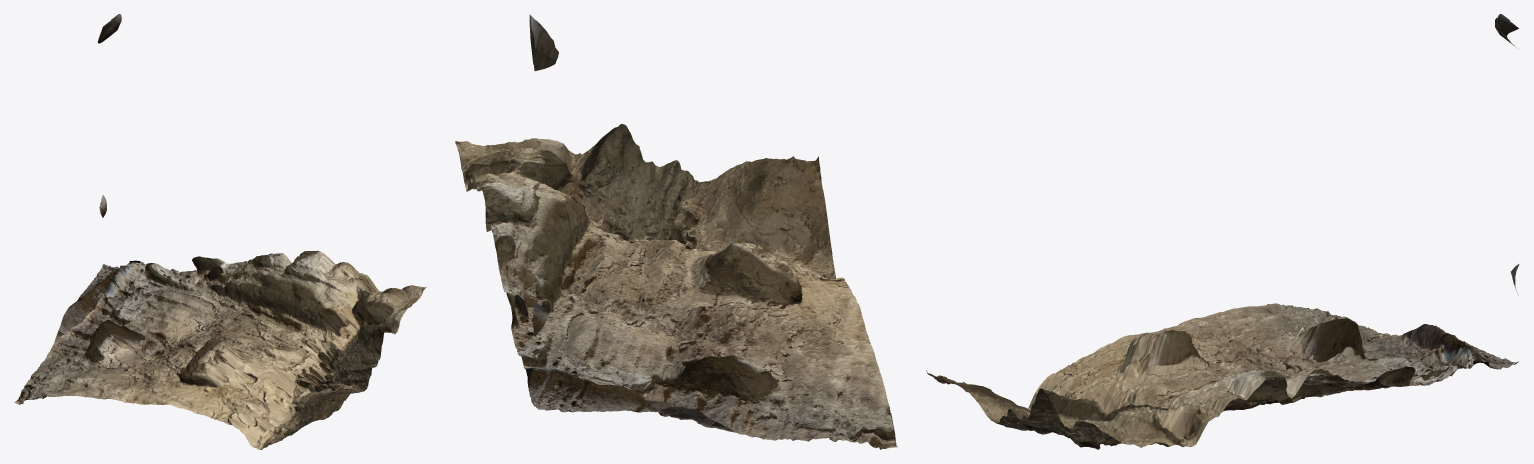
The model's file is tile_1_4.obj.
3 renders of one model, left to right at view 1: azimuth 30°, elevation 25°; view 2: azimuth 150°, elevation 25°; view 3: azimuth 270°, elevation 25°, orthographic. The views are drawn at different scales.
Parts seen in each view (by area): view 1: texture_0; view 2: texture_0; view 3: texture_0.
Part boxes in pixels (bbox=[...]): texture_0: bbox=[14, 14, 426, 449]; texture_0: bbox=[455, 14, 897, 449]; texture_0: bbox=[926, 14, 1519, 449].
Bounding box in the file's own units: 0.4195 × 0.3429 × 0.436.
1 material, 1 textured.
